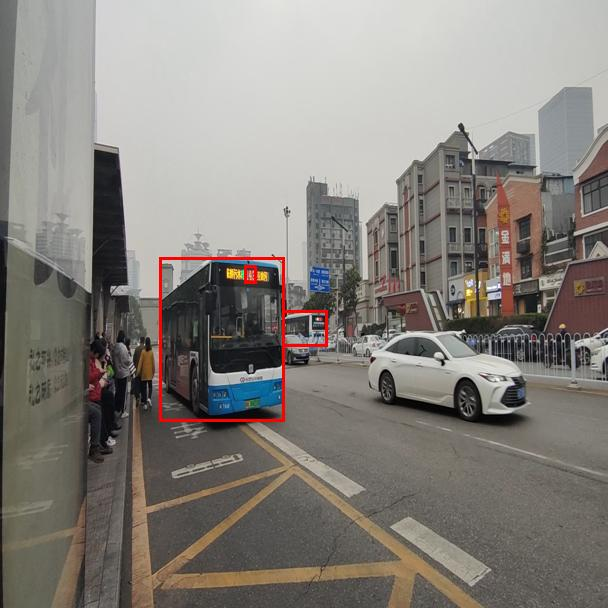bus: (159, 257, 284, 421), (282, 310, 327, 346)
screen: (244, 265, 256, 283)
